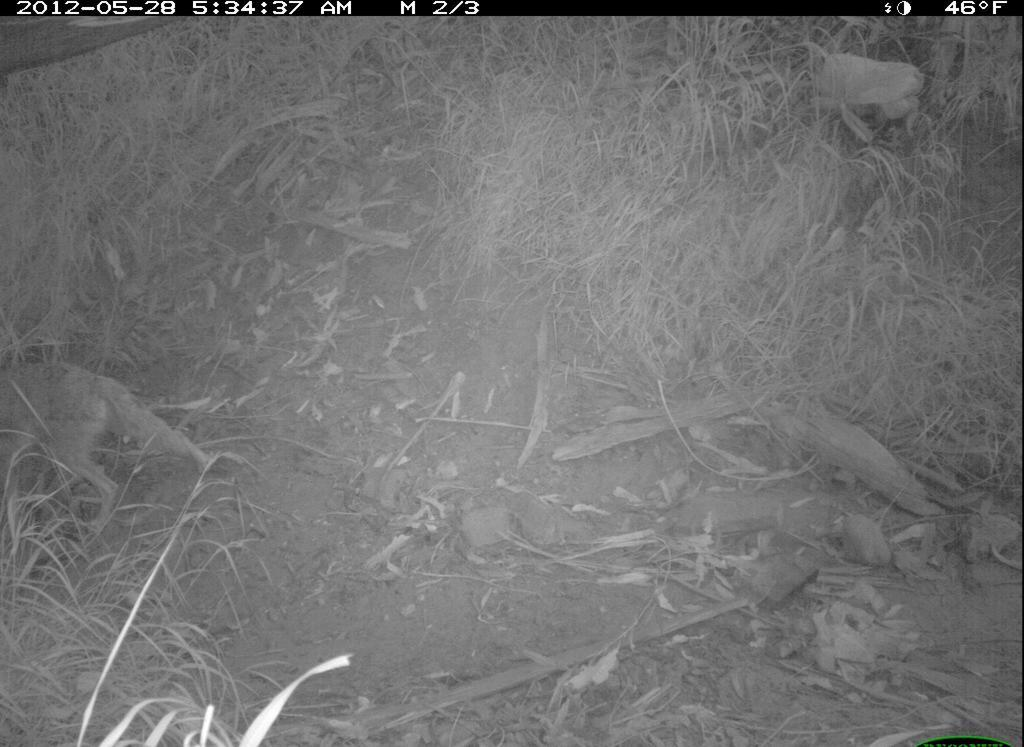coyote: (3, 340, 222, 547)
